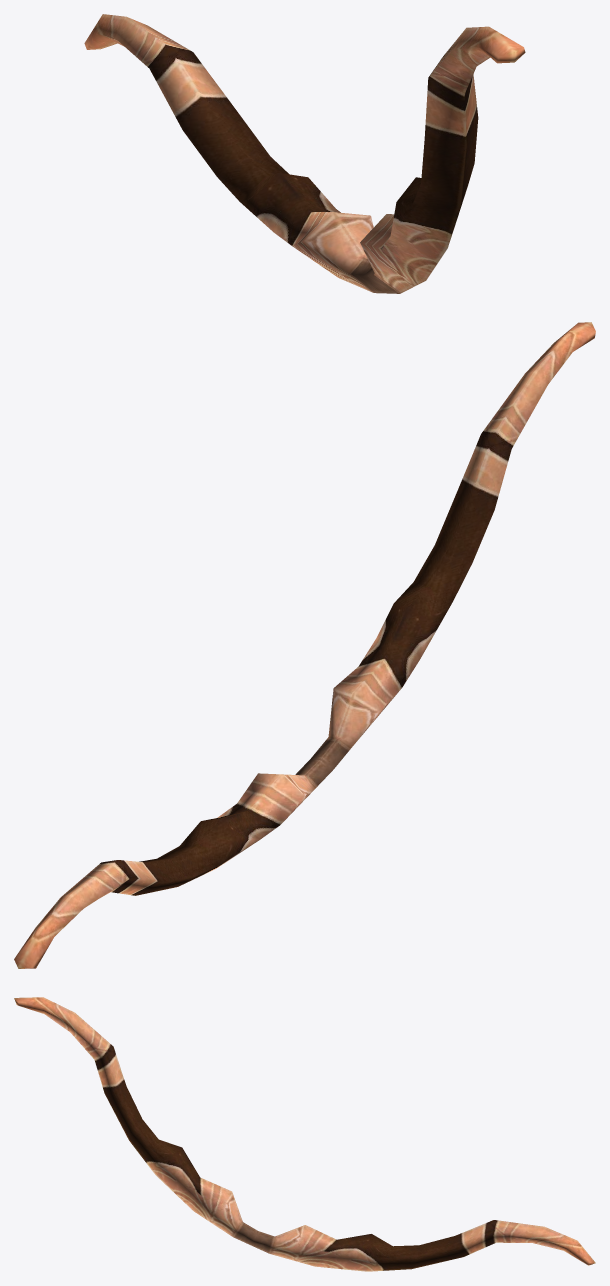
File: bow-bronzeweapons.glb
3 views of the same model, one above another, from view 1: azimuth 30°, elevation 25°; view 2: azimuth 150°, elevation 25°; view 3: azimuth 270°, elevation 25° (orthographic). The views are drawn at different scales.
Size of the model in its own units: 0.2762 by 0.6958 by 1.51.
Materials: 1 (1 with a texture image).
